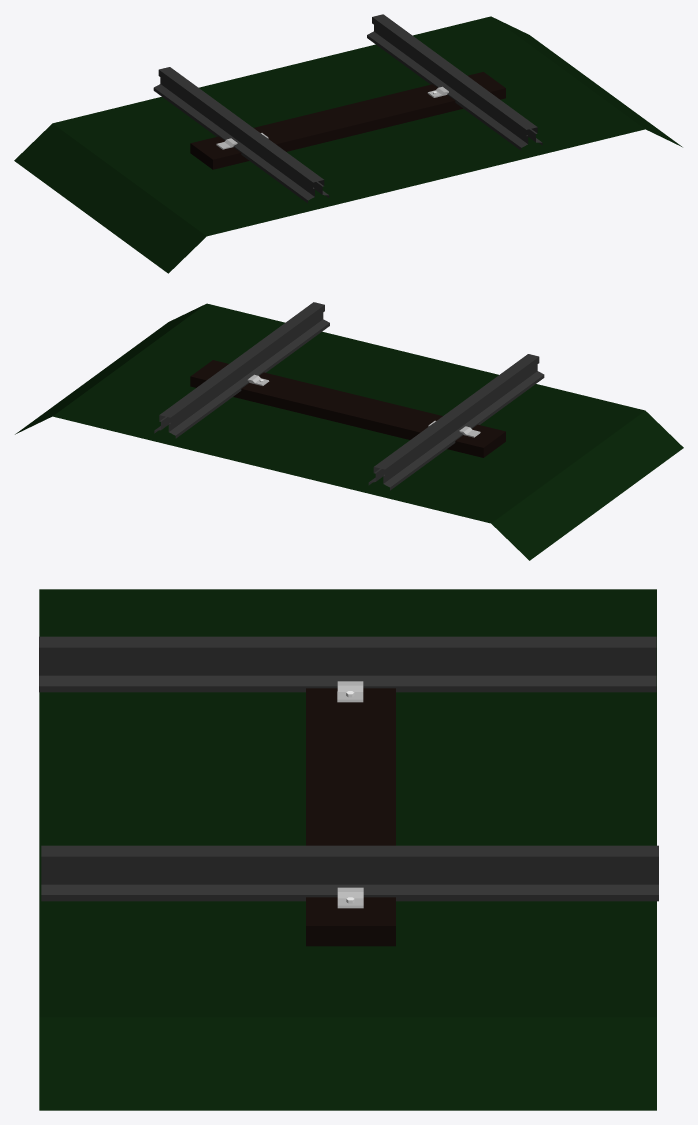
The model's file is Straight_Separated.FBX.
3 views of the same model, one above another, from view 1: azimuth 30°, elevation 25°; view 2: azimuth 150°, elevation 25°; view 3: azimuth 270°, elevation 25° (orthographic). The views are drawn at different scales.
Parts seen in each view (by area): view 1: Floor, Sleeper, Rail_2, Rail_1; view 2: Floor, Sleeper, Rail_2, Rail_1; view 3: Floor, Rail_1, Rail_2, Sleeper.
Boxes of the visible parts, x1=… form: Floor: x1=14, y1=16, x2=682, y2=273; Sleeper: x1=190, y1=72, x2=505, y2=169; Rail_2: x1=367, y1=14, x2=542, y2=150; Rail_1: x1=153, y1=67, x2=329, y2=203; Floor: x1=15, y1=303, x2=683, y2=560; Sleeper: x1=190, y1=360, x2=505, y2=457; Rail_2: x1=154, y1=302, x2=329, y2=438; Rail_1: x1=368, y1=354, x2=544, y2=490; Floor: x1=39, y1=589, x2=656, y2=1110; Rail_1: x1=39, y1=636, x2=656, y2=692; Rail_2: x1=41, y1=845, x2=658, y2=901; Sleeper: x1=306, y1=688, x2=395, y2=946.
Bounding box in the file's own units: 193 × 20 × 100.
